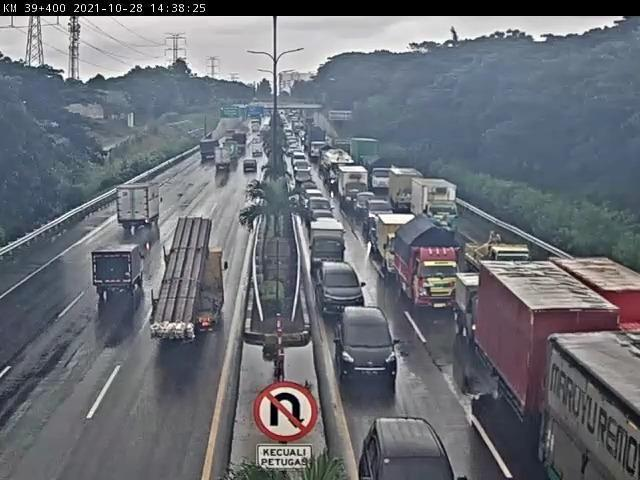car: (369, 406, 453, 480), (336, 299, 400, 380), (313, 260, 374, 316), (369, 196, 394, 222), (307, 198, 341, 213), (357, 195, 377, 216), (311, 210, 335, 221), (241, 161, 257, 177), (307, 190, 329, 201)
truck: (480, 260, 612, 435), (539, 327, 640, 480), (544, 251, 640, 331), (146, 250, 228, 341), (397, 221, 463, 318), (82, 243, 149, 309), (464, 227, 531, 280), (412, 180, 467, 240), (459, 273, 500, 343), (377, 214, 421, 269), (310, 219, 352, 269), (117, 185, 162, 229), (391, 166, 420, 212), (212, 151, 235, 176), (195, 141, 221, 162)
